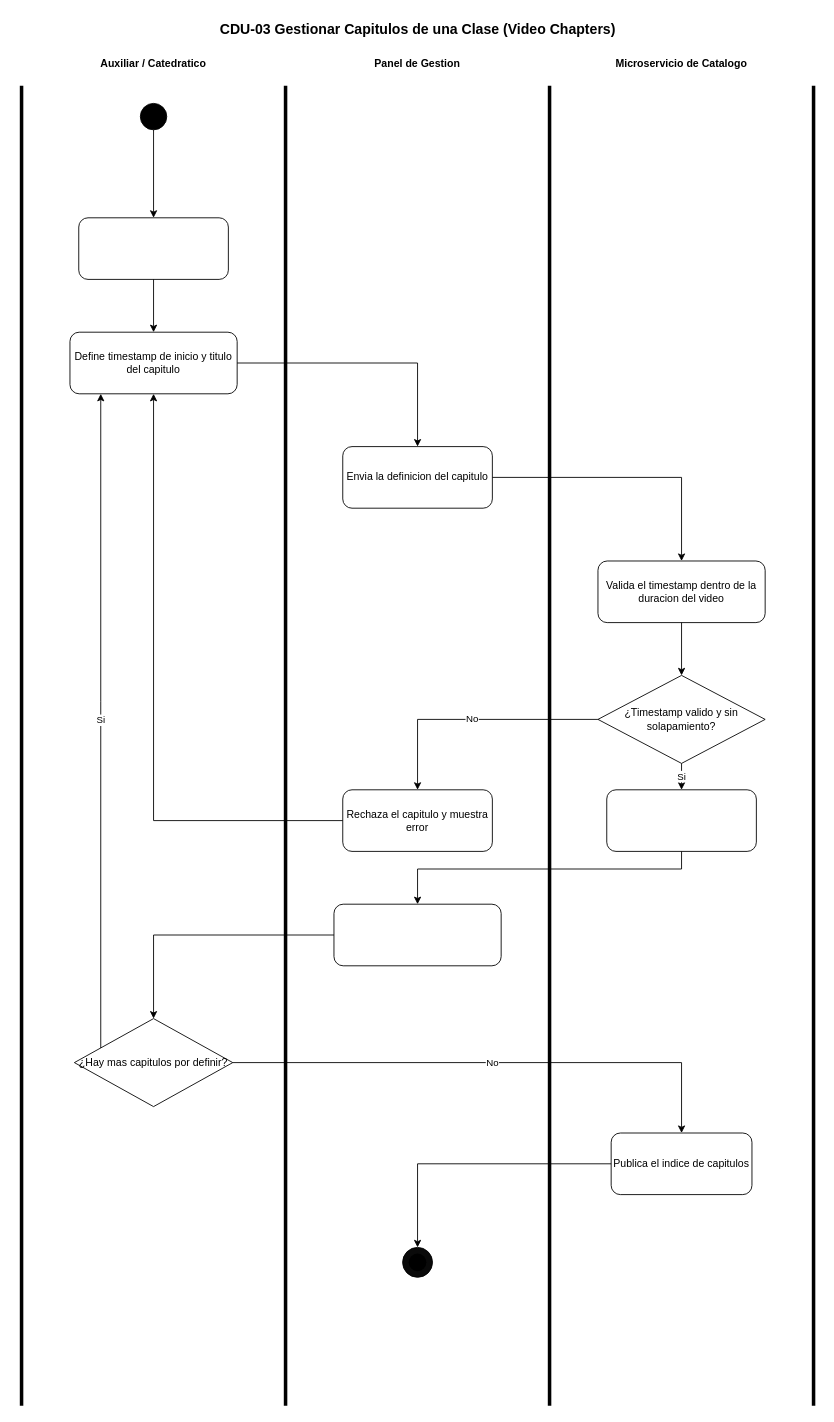
The diagram is 834 pixels wide and 1422 high, and some of its shapes have lost their labels. The shapes that lost their labels are listed below. From the top down, each one's centre as x and y in pixels, then its label:
At pixel 153 248: "Accede al panel de gestion de la clase".
At pixel 681 820: "Persiste el capitulo asociado al video".
At pixel 417 934: "Actualiza la segmentacion de la barra de avance".
